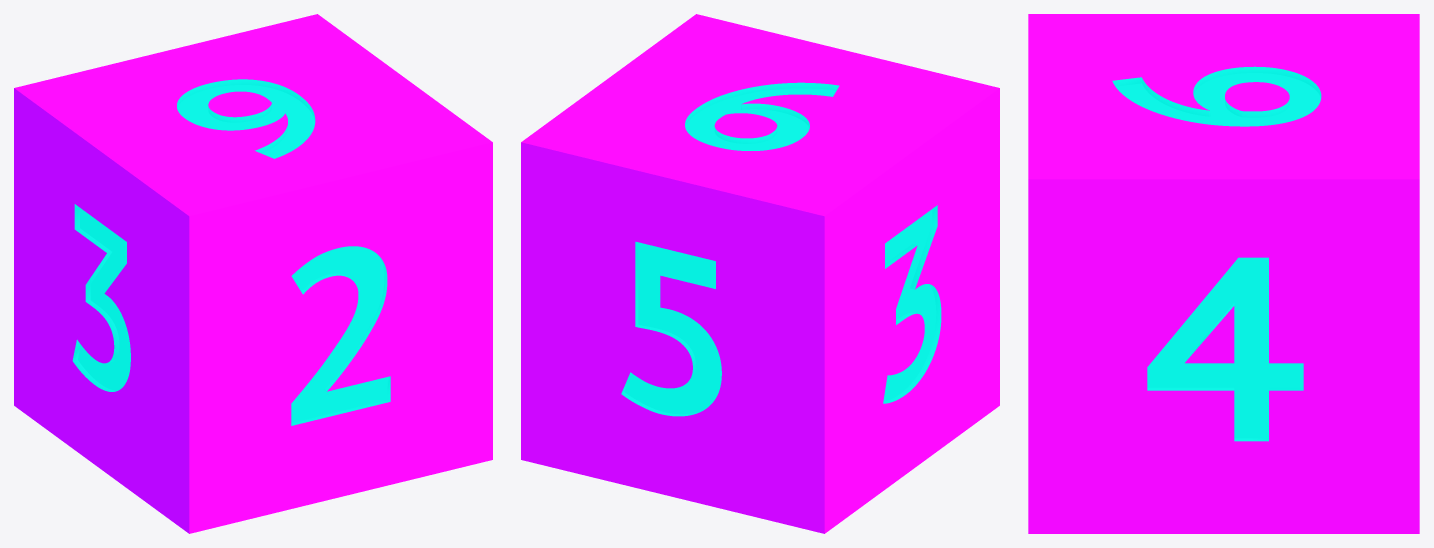
3 views of the same model, side by side, from view 1: azimuth 30°, elevation 25°; view 2: azimuth 150°, elevation 25°; view 3: azimuth 270°, elevation 25° (orthographic). The views are drawn at different scales.
Parts seen in each view (by area): view 1: d6.001; view 2: d6.001; view 3: d6.001.
Boxes of the visible parts, <box> form: d6.001: <box>14,14,492,533</box>; d6.001: <box>521,14,999,533</box>; d6.001: <box>1028,14,1419,533</box>.
Size of the model in its own units: 1.15 by 1.15 by 1.15.
